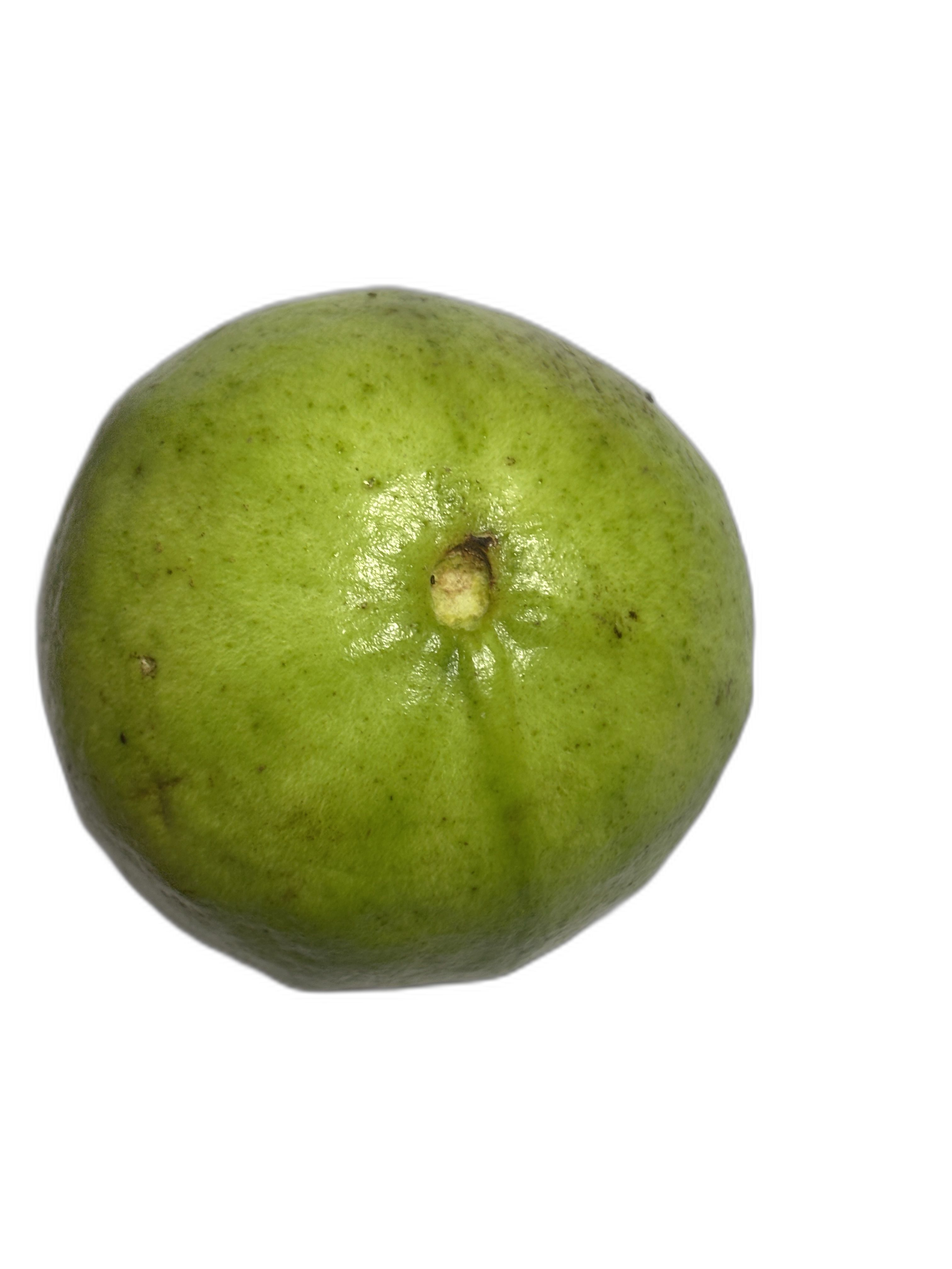guava: (159, 149, 822, 929)
